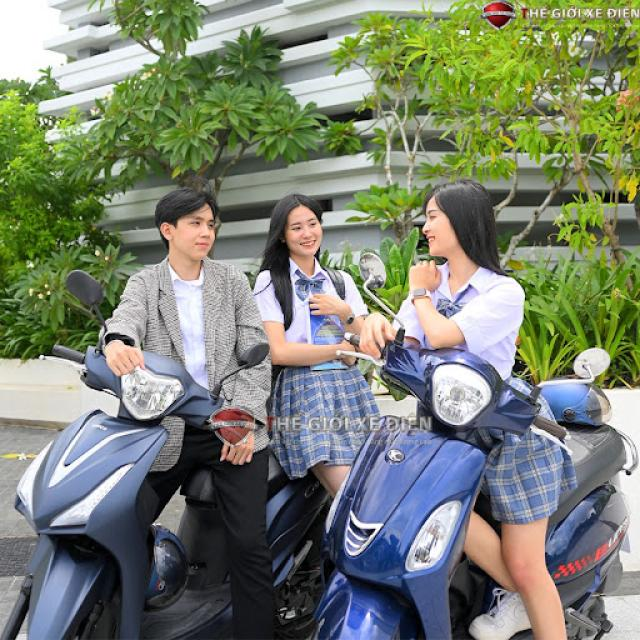no_helmet: (413, 174, 505, 272), (146, 177, 230, 269), (257, 186, 333, 264)
